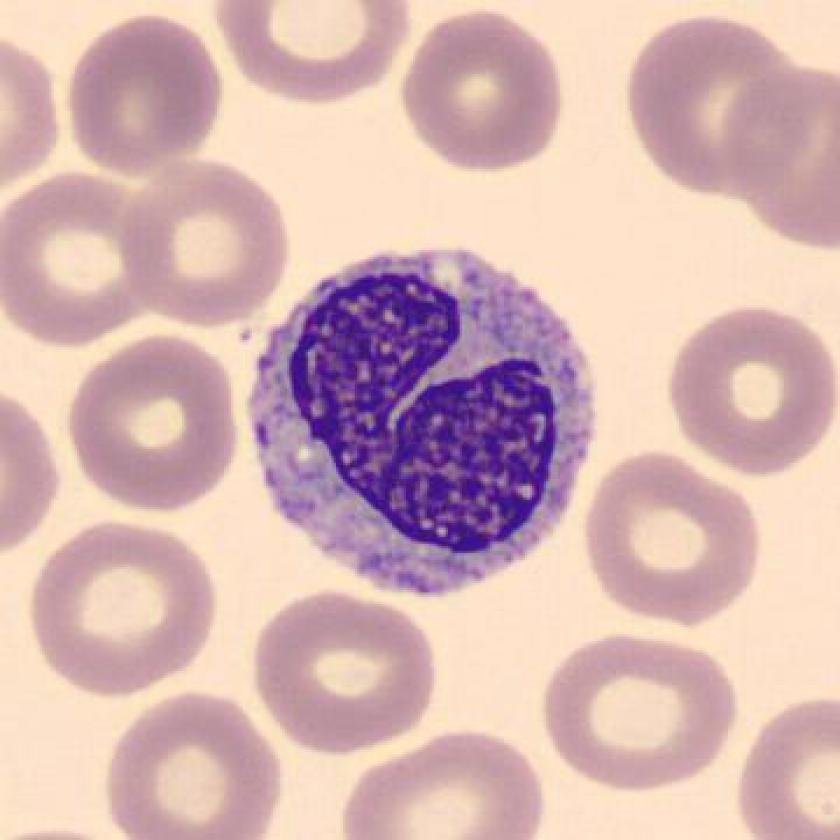monocyte: (230, 226, 619, 621)
